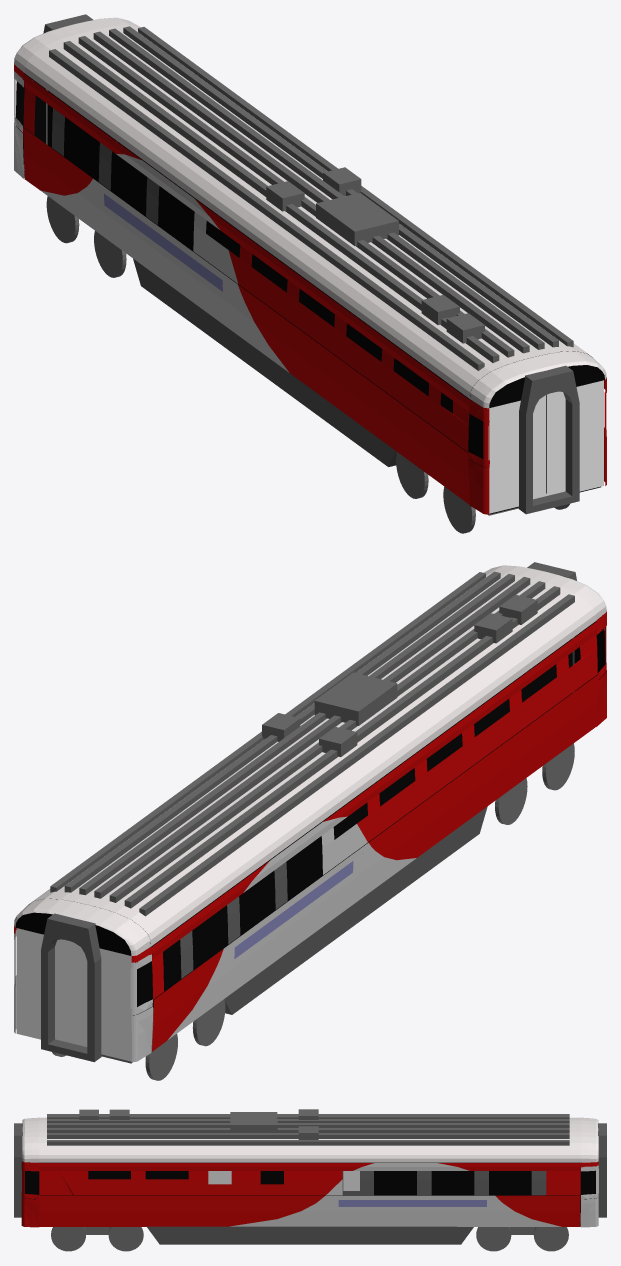
File: br-mk3-trfb-vtec.dae
3 views of the same model, one above another, from view 1: azimuth 30°, elevation 25°; view 2: azimuth 150°, elevation 25°; view 3: azimuth 270°, elevation 25° (orthographic). The views are drawn at different scales.
Parts seen in each view (by area): view 1: Suzanne_001, Plane_035, Plane_100, Plane_111, Plane_017, Mk3-Trfb-Roof-Equipme, Cube, Cube_011, Tube_002, Cube_010, Cube_008, Cube_004 (+16 smaller); view 2: Suzanne_001, Plane_035, Plane_111, Plane_001, Plane_017, Mk3-Trfb-Roof-Equipme, Cube, Cube_011, Tube_003, Cube_010, Cube_008, Cube_004 (+15 smaller); view 3: Plane_007, Suzanne_001, Plane_163, Cube, Plane_015, Cube_003, Cube_002, Plane_022, Cube_008, Cube_004, Plane_006, Plane_004 (+28 smaller).
Boxes of the visible parts, bbox=[...] form: Suzanne_001: bbox=[25, 25, 592, 398]; Plane_035: bbox=[23, 140, 469, 504]; Plane_100: bbox=[488, 380, 603, 513]; Plane_111: bbox=[47, 90, 486, 467]; Plane_017: bbox=[193, 212, 430, 423]; Mk3-Trfb-Roof-Equipme: bbox=[266, 167, 484, 343]; Cube: bbox=[133, 258, 396, 466]; Cube_011: bbox=[49, 49, 484, 370]; Tube_002: bbox=[518, 365, 579, 514]; Cube_010: bbox=[63, 41, 499, 362]; Cube_008: bbox=[93, 31, 529, 353]; Cube_004: bbox=[109, 28, 544, 349]; Suzanne_001: bbox=[28, 572, 596, 946]; Plane_035: bbox=[152, 687, 598, 1051]; Plane_111: bbox=[133, 638, 572, 1015]; Plane_001: bbox=[16, 928, 131, 1061]; Plane_017: bbox=[321, 676, 559, 874]; Mk3-Trfb-Roof-Equipme: bbox=[262, 594, 537, 756]; Cube: bbox=[224, 806, 487, 1014]; Cube_011: bbox=[139, 594, 574, 916]; Tube_003: bbox=[41, 913, 101, 1062]; Cube_010: bbox=[124, 586, 560, 908]; Cube_008: bbox=[94, 577, 530, 898]; Cube_004: bbox=[79, 574, 514, 895]; Plane_007: bbox=[39, 1203, 580, 1226]; Suzanne_001: bbox=[39, 1117, 580, 1162]; Plane_163: bbox=[25, 1162, 596, 1212]; Cube: bbox=[147, 1227, 473, 1244]; Plane_015: bbox=[88, 1171, 373, 1195]; Cube_003: bbox=[47, 1140, 569, 1145]; Cube_002: bbox=[47, 1133, 569, 1138]; Plane_022: bbox=[38, 1195, 580, 1199]; Cube_008: bbox=[47, 1123, 569, 1127]; Cube_004: bbox=[47, 1128, 569, 1132]; Plane_006: bbox=[38, 1163, 581, 1166]; Plane_004: bbox=[39, 1167, 580, 1170].
Size of the model in its own units: 2.07 by 13.39 by 2.96.
